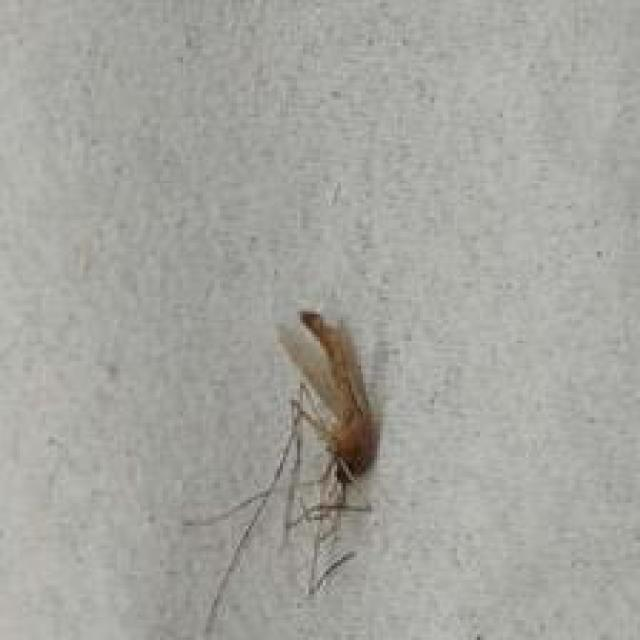Culex: (182, 307, 384, 639)
